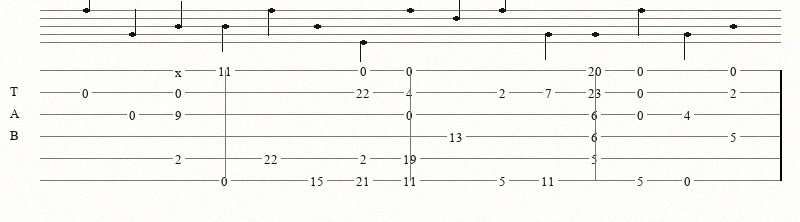0: (82, 86, 93, 99), (129, 108, 140, 121), (175, 86, 186, 99), (221, 174, 232, 187), (360, 64, 371, 77), (406, 64, 417, 77), (406, 108, 417, 121), (637, 86, 648, 99), (637, 108, 648, 121), (637, 64, 648, 77), (684, 174, 695, 187), (730, 64, 741, 77)
11: (218, 64, 236, 77), (403, 174, 421, 187), (541, 174, 559, 187)
13: (449, 130, 467, 143)
15: (310, 174, 328, 187)
19: (403, 152, 421, 165)
2: (175, 152, 186, 165), (360, 152, 371, 165), (499, 86, 510, 99), (730, 86, 741, 99)
20: (588, 64, 606, 77)
21: (356, 174, 374, 187)
22: (264, 152, 282, 165), (356, 86, 374, 99)
23: (588, 86, 606, 99)
4: (406, 86, 417, 99), (684, 108, 695, 121)
5: (499, 174, 510, 187), (591, 152, 602, 165), (637, 174, 648, 187), (730, 130, 741, 143)
6: (591, 130, 602, 143), (591, 108, 602, 121)
7: (545, 86, 556, 99)
9: (175, 108, 186, 121)
x: (175, 65, 186, 75)
